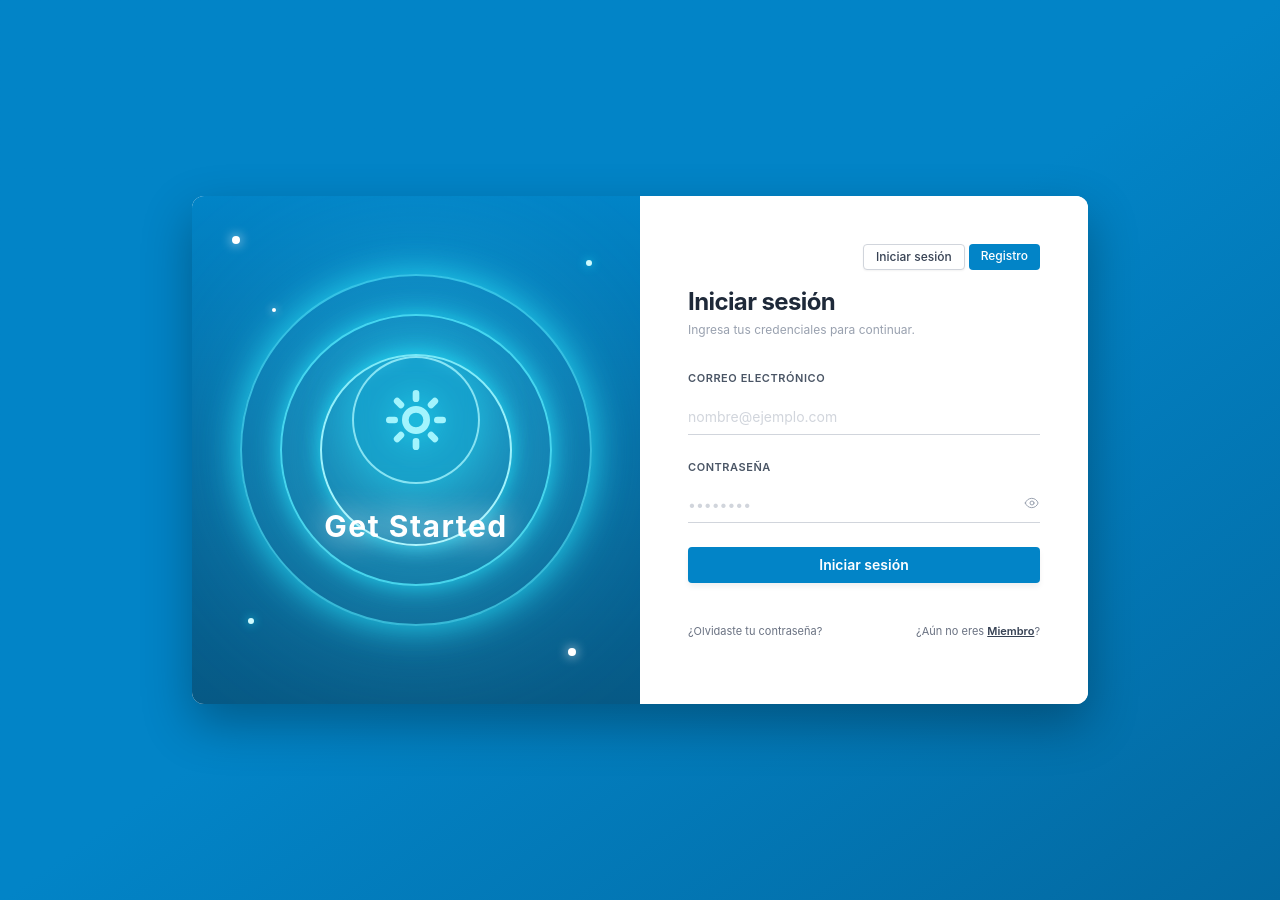
Scenario: LoginPage › shows an error when the email is invalid
Step 1. Type "invalid-email" into the field labelled "Correo electrónico" → [864, 417], box [688,399,1040,435]
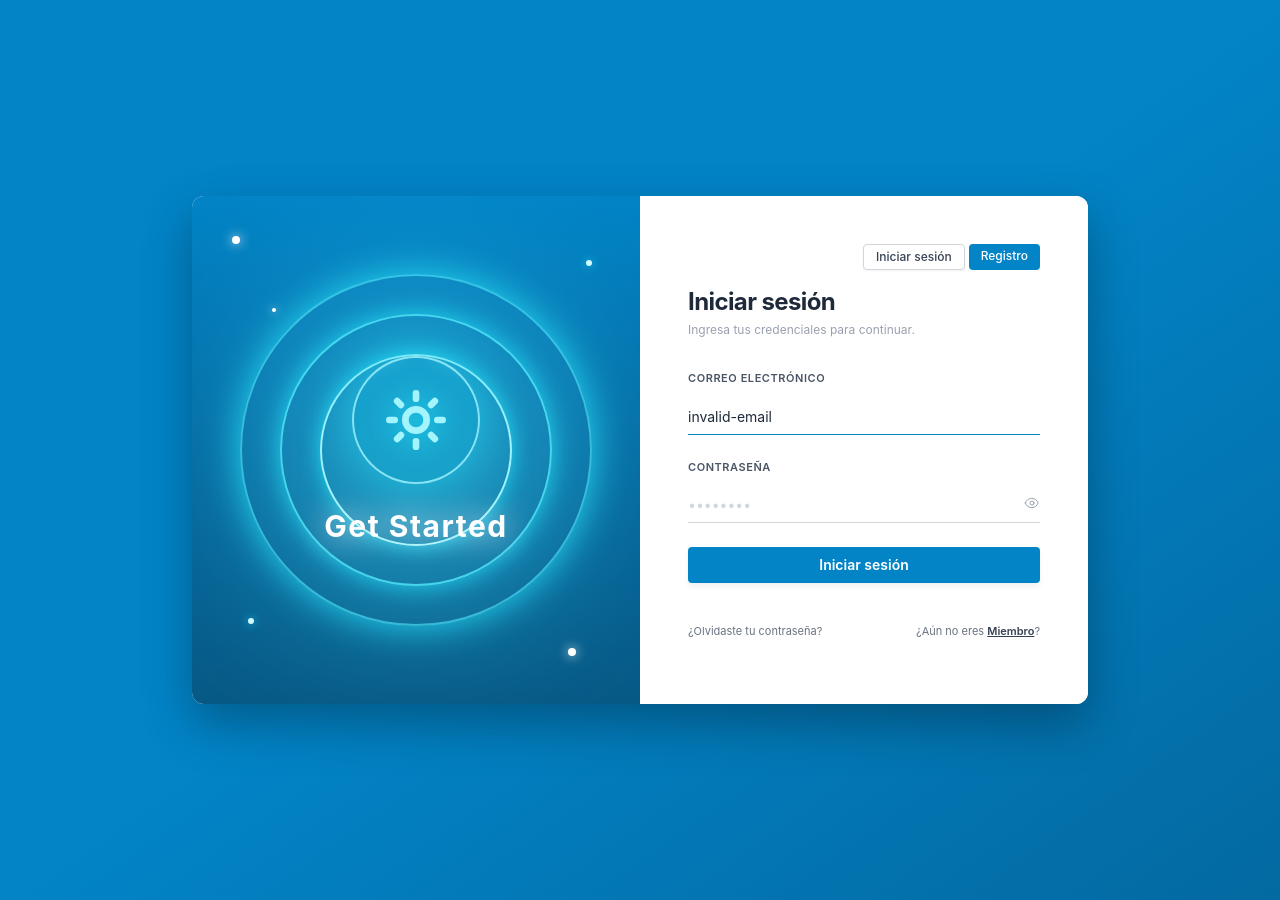
Step 2. Type "password" into the password field labelled "Contraseña" → [864, 505], box [688,487,1040,523]
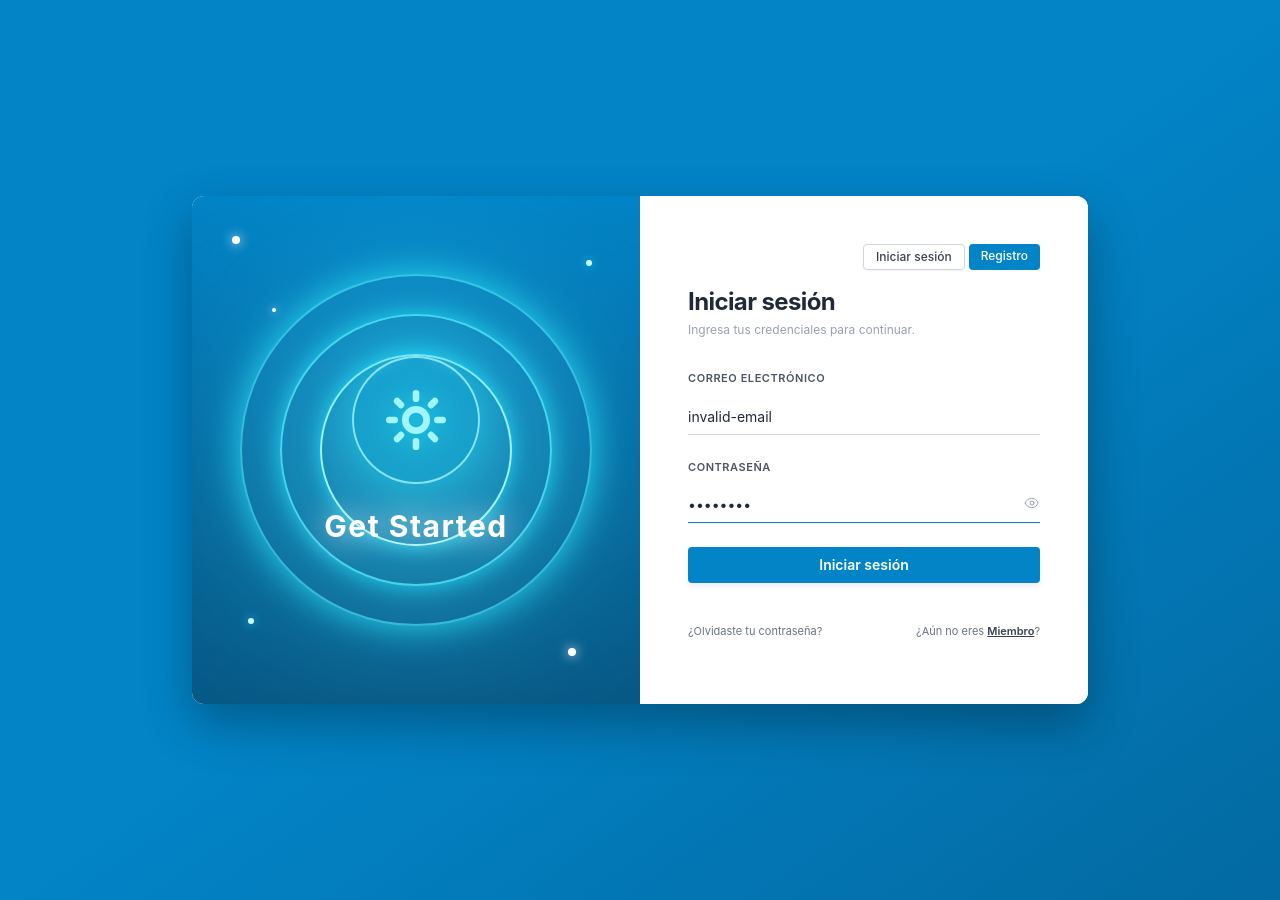
Step 3. Click the button "Iniciar sesión" → [864, 565], box [688,547,1040,583]
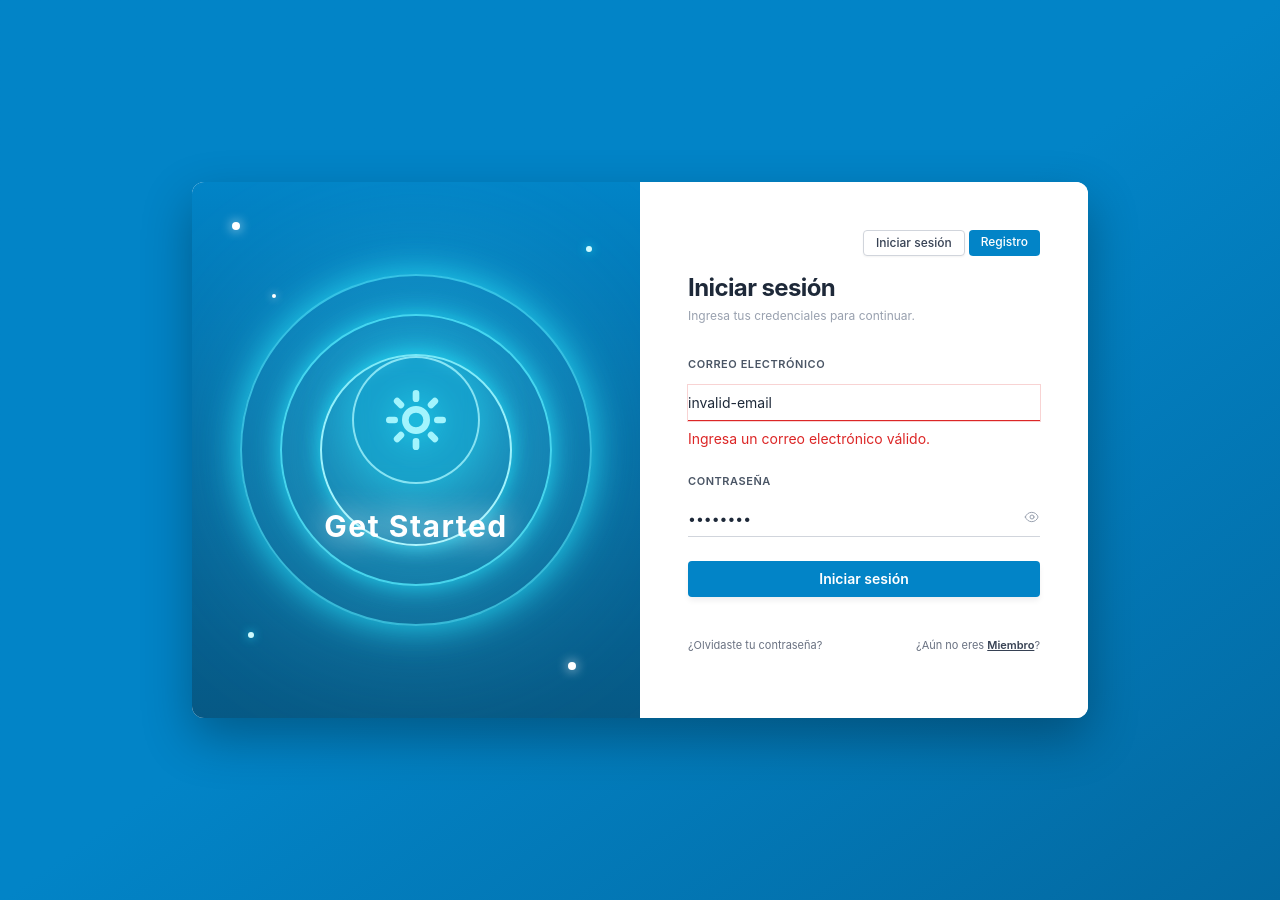
Expected: the text "Ingresa un correo electrónico válido." is shown, [688,430,930,447]
